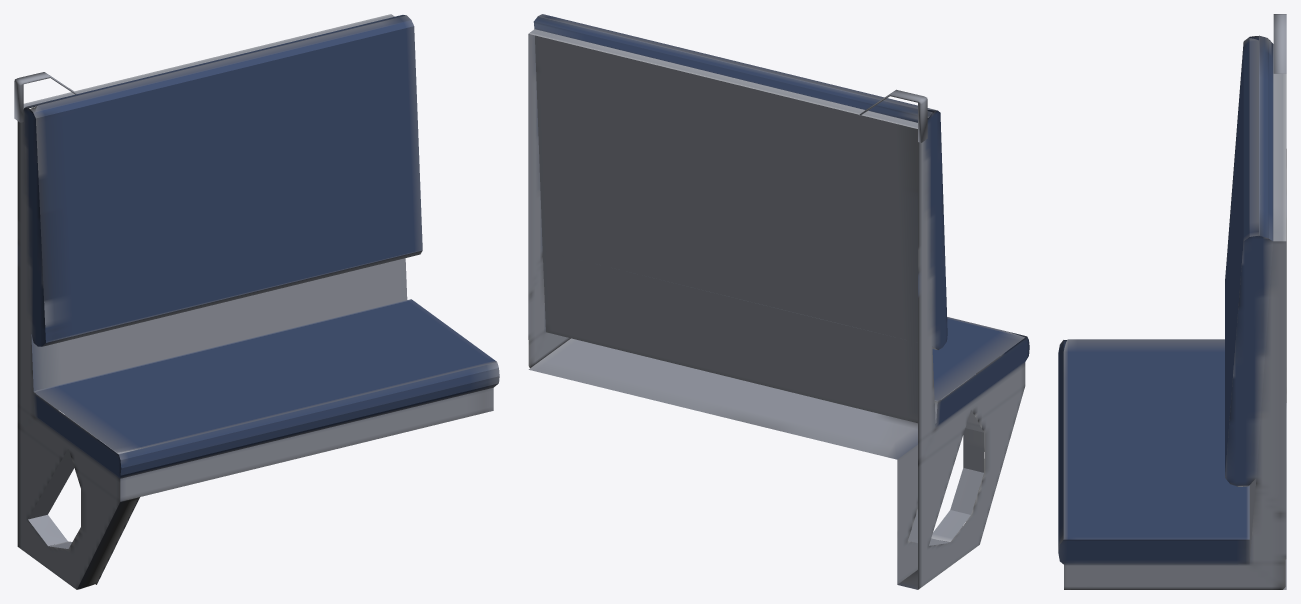
Rendered from seat one side firsttype.obj.
The picture shows the model from 3 angles, left to right: view 1: azimuth 30°, elevation 25°; view 2: azimuth 150°, elevation 25°; view 3: azimuth 270°, elevation 25°; orthographic projection. The views are drawn at different scales.
Parts seen in each view (by area): view 1: Small_Seat_Left_Cube.009; view 2: Small_Seat_Left_Cube.009; view 3: Small_Seat_Left_Cube.009.
Part boxes in pixels (x1,y1,x2,y2): Small_Seat_Left_Cube.009: [14, 14, 499, 589]; Small_Seat_Left_Cube.009: [528, 14, 1029, 589]; Small_Seat_Left_Cube.009: [1058, 14, 1286, 589].
Size of the model in its own units: 0.5819 by 0.6855 by 0.2793.
